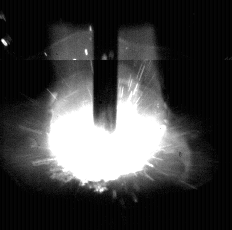arame: (94, 0, 117, 133)
poca: (47, 0, 163, 230)
